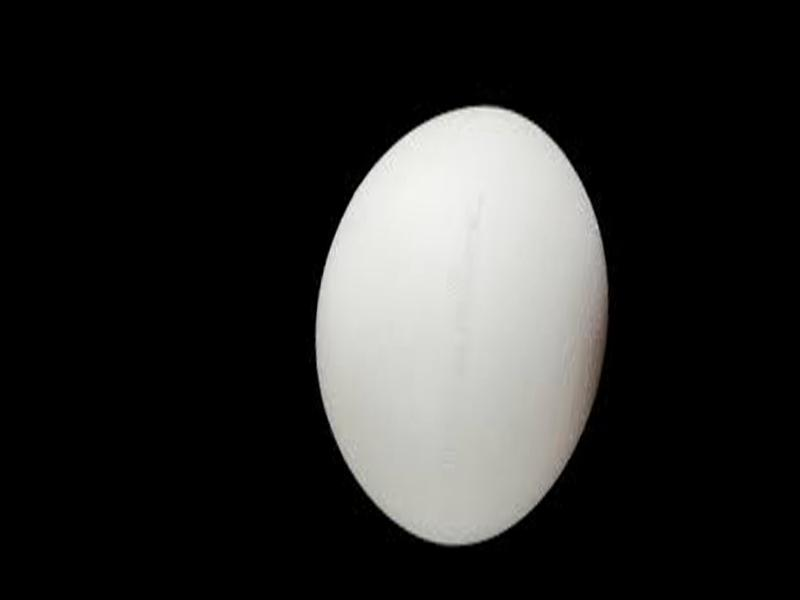Eggs: (299, 91, 627, 555)
